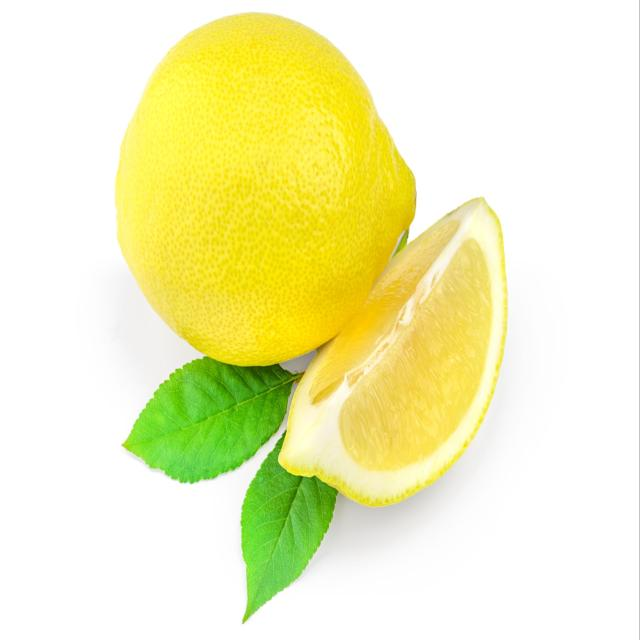lemon: (109, 9, 422, 376), (274, 190, 514, 516)
